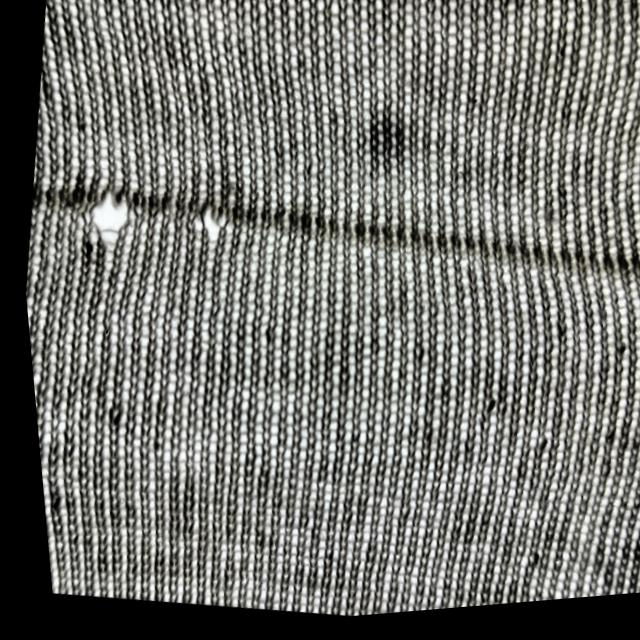Hole: (338, 112, 420, 191), (75, 182, 135, 258), (185, 204, 236, 257)
